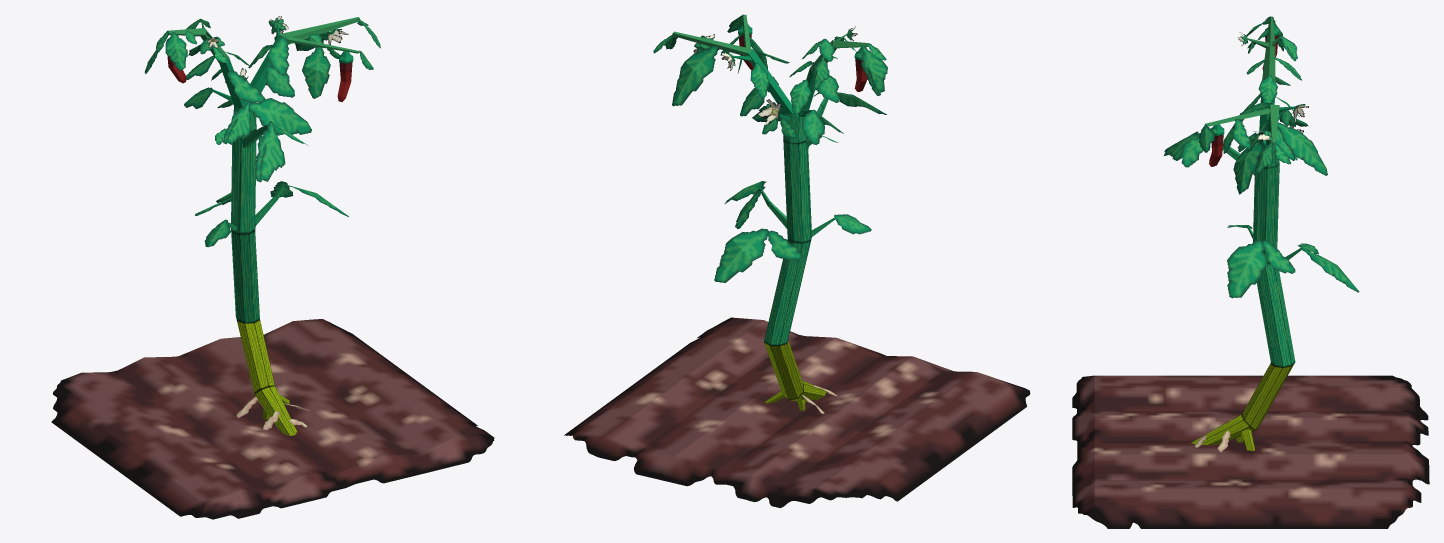
Rendered from pje_chilli_plant.fbx.
3 views of the same model, side by side, from view 1: azimuth 30°, elevation 25°; view 2: azimuth 150°, elevation 25°; view 3: azimuth 270°, elevation 25° (orthographic). The views are drawn at different scales.
Parts seen in each view (by area): view 1: ground, plant, leaves; view 2: ground, leaves, plant; view 3: ground, leaves, plant.
Boxes of the visible parts, <box> form: ground: <box>51,319,494,519</box>; plant: <box>166,17,359,435</box>; leaves: <box>144,16,380,247</box>; ground: <box>564,317,1030,507</box>; leaves: <box>653,14,887,282</box>; plant: <box>672,14,868,413</box>; ground: <box>1072,375,1429,528</box>; leaves: <box>1164,16,1359,298</box>; plant: <box>1191,16,1300,452</box>.
Size of the model in its own units: 100 by 125 by 100.
1 material, 1 textured.
